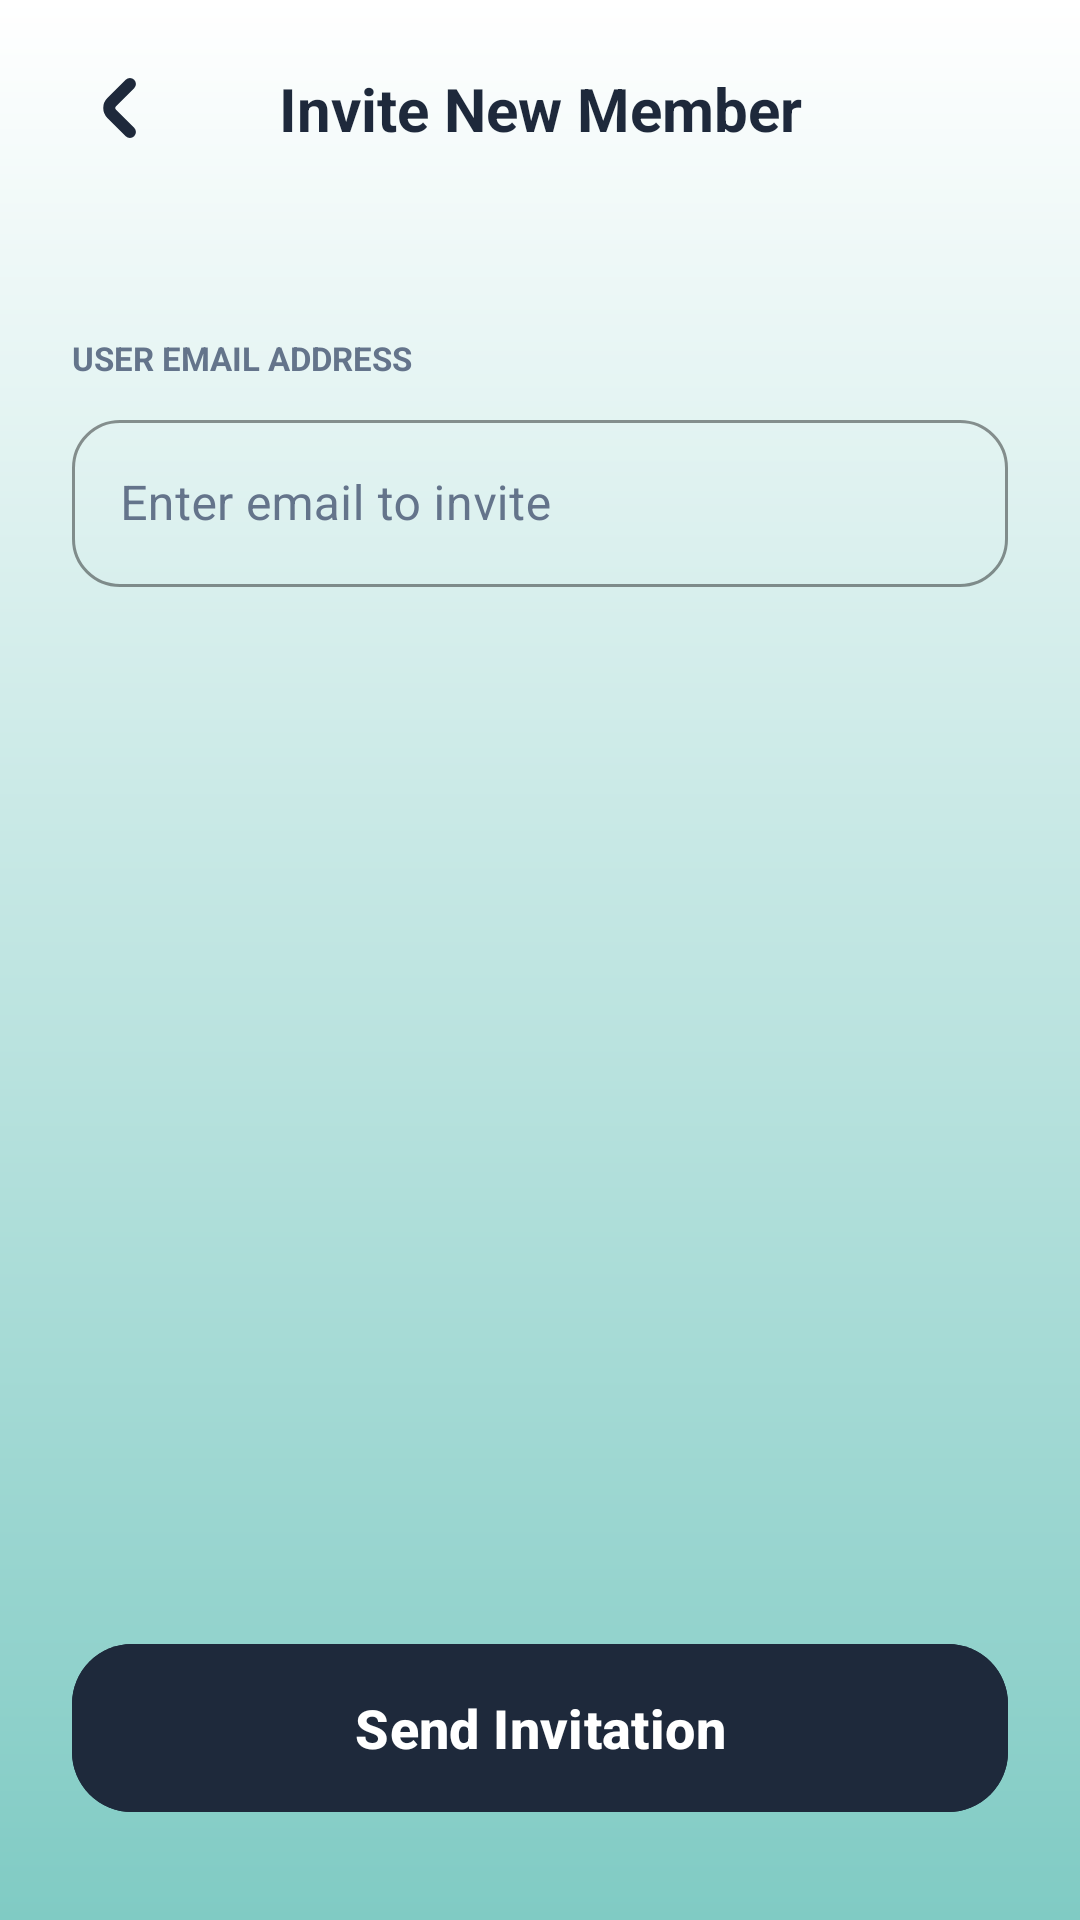

Icons on this 1080w x 1920h Android screen, each with its box as BBox(x1, y1, x2, y2):
back: BBox(103, 78, 136, 138)
